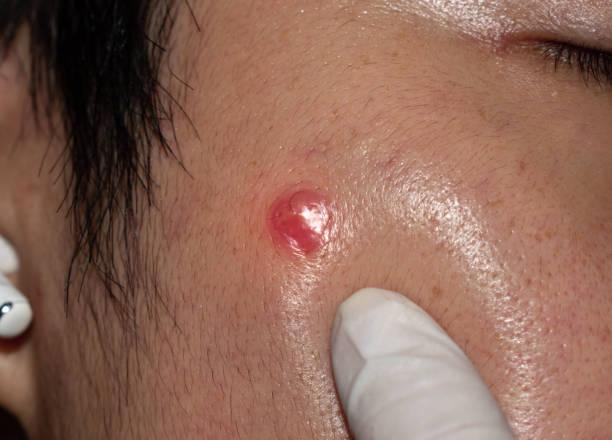Dry-Skin: (262, 80, 418, 307), (463, 94, 580, 310), (116, 234, 237, 418), (197, 28, 302, 178)
